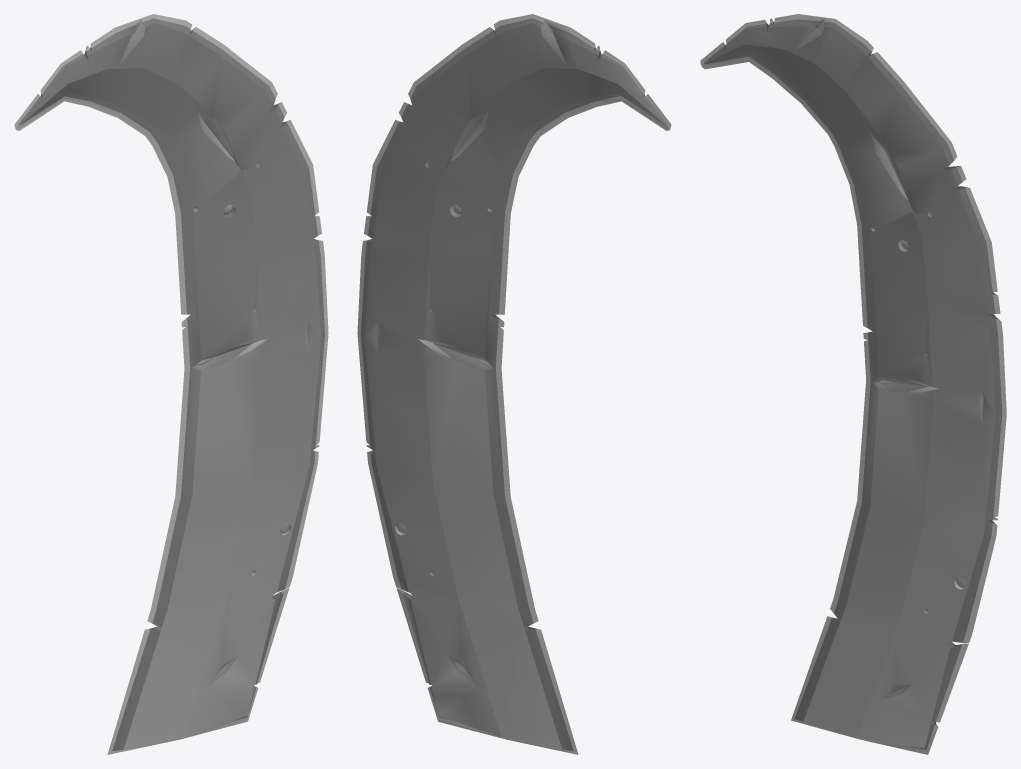
Rendered from stone_blade_bubbles_044.glb.
3 views of the same model, side by side, from view 1: azimuth 30°, elevation 25°; view 2: azimuth 150°, elevation 25°; view 3: azimuth 330°, elevation 25° (orthographic). The views are drawn at different scales.
Parts seen in each view (by area): view 1: stone_blade_bubbles.044; view 2: stone_blade_bubbles.044; view 3: stone_blade_bubbles.044.
Boxes of the visible parts, bbox=[...] form: stone_blade_bubbles.044: bbox=[14, 14, 328, 754]; stone_blade_bubbles.044: bbox=[357, 14, 671, 754]; stone_blade_bubbles.044: bbox=[700, 14, 1006, 754].
Size of the model in its own units: 4.65 by 10.35 by 0.241.
Materials: 1 (1 with a texture image).
